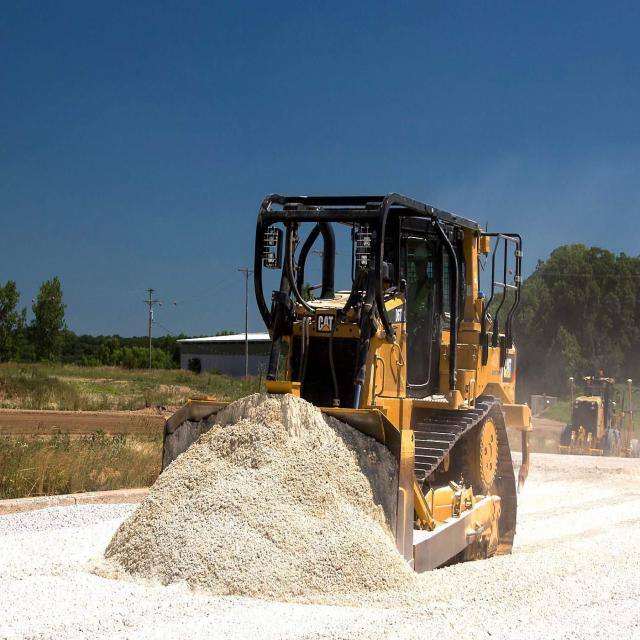Bulldozer: (153, 163, 540, 573)
